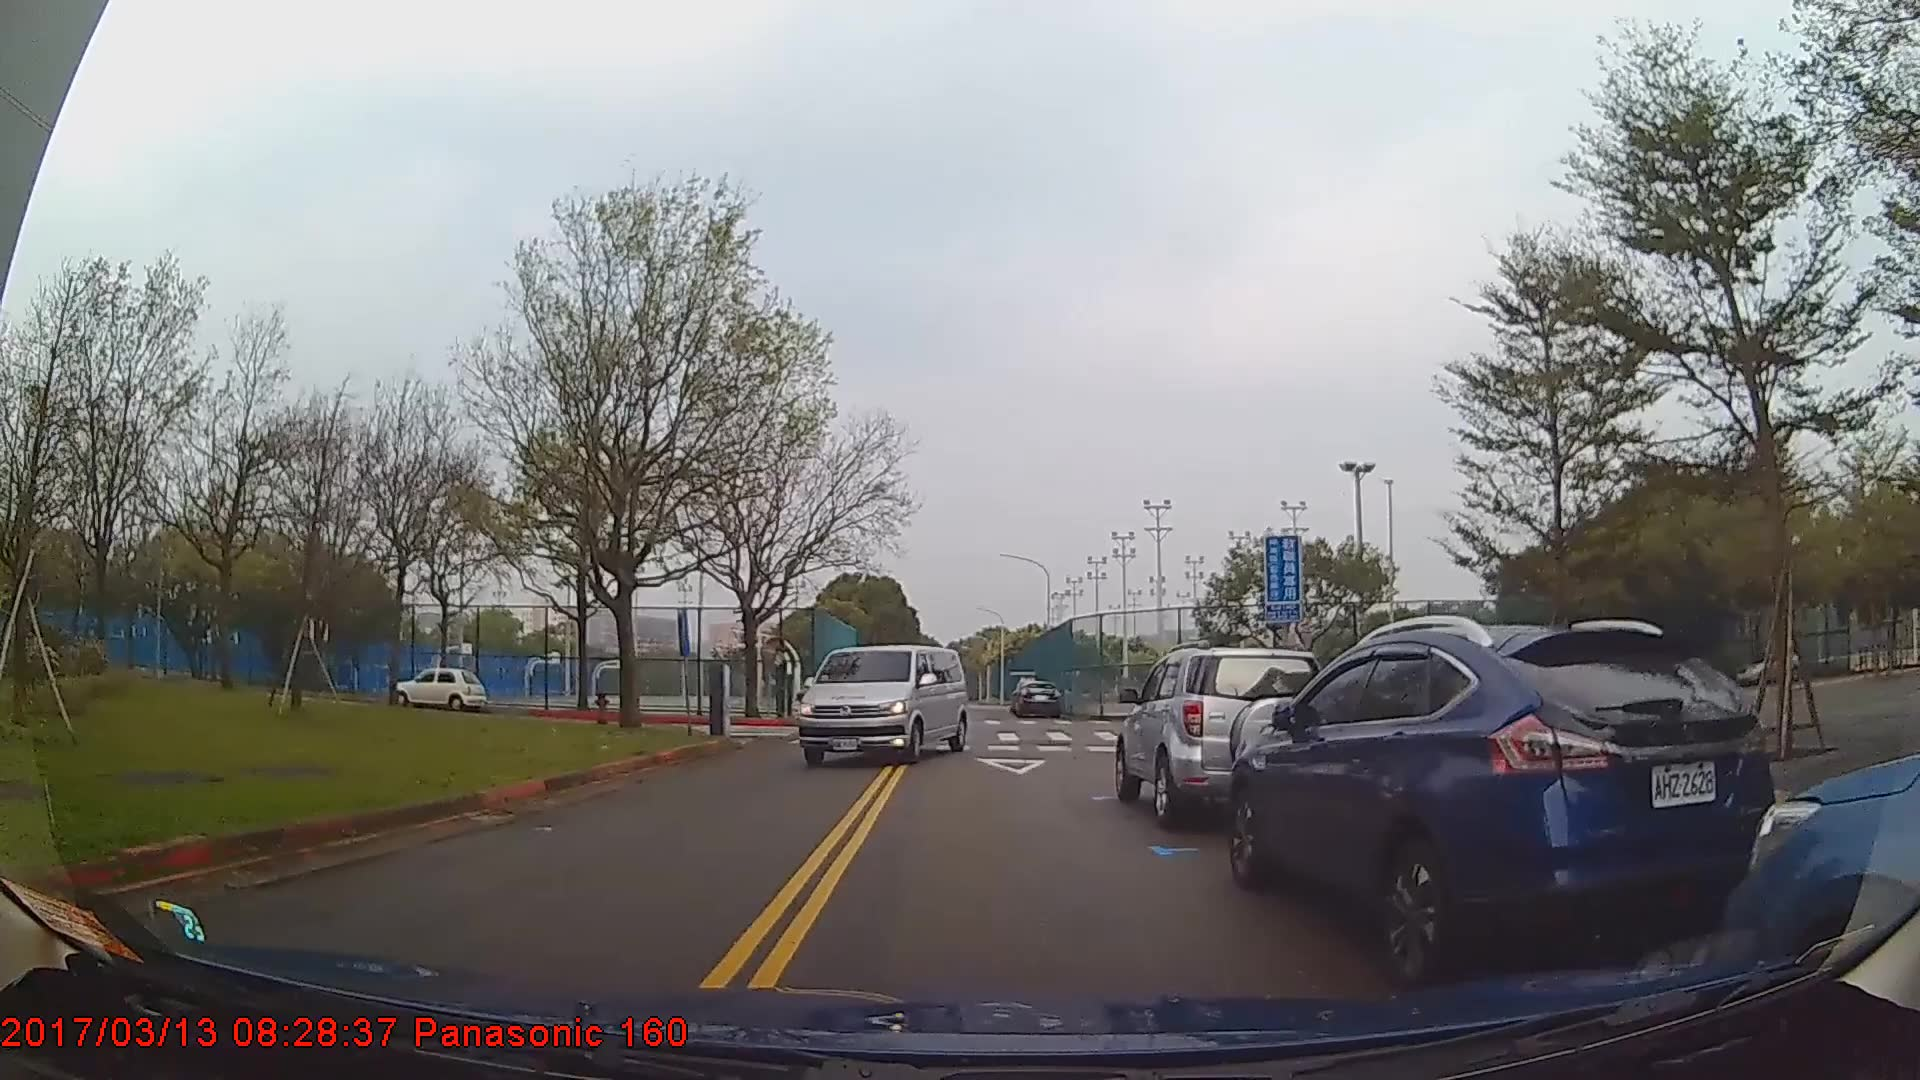vehicle: (1225, 618, 1776, 980), (1114, 645, 1332, 823), (796, 644, 967, 764), (394, 666, 487, 711), (1015, 678, 1062, 719)
